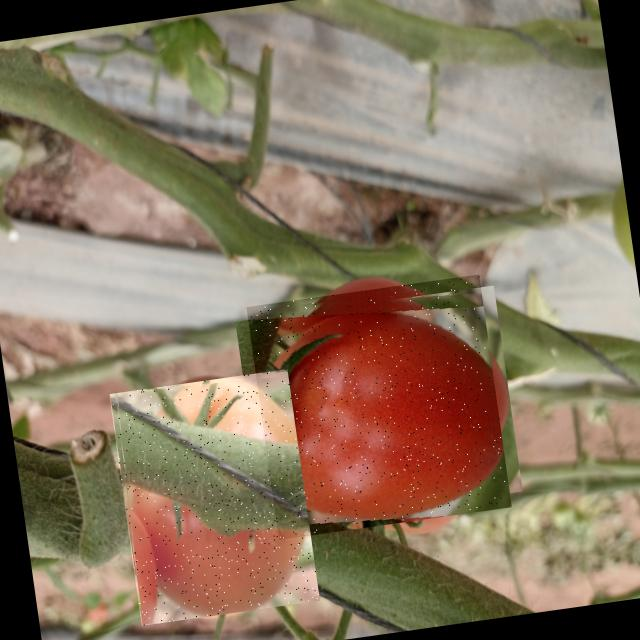Ripe Tomato: (246, 274, 512, 540), (109, 369, 320, 626)
